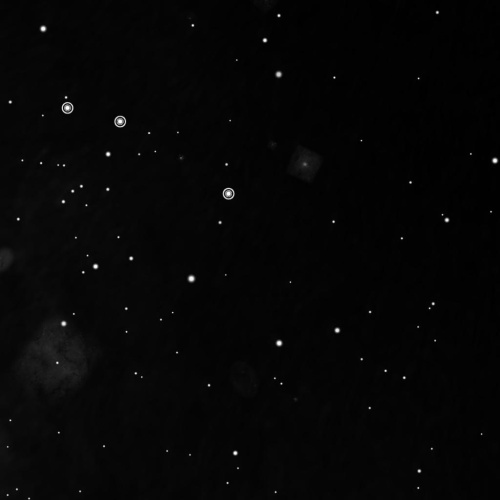vulpecula: (54, 94, 245, 206)
